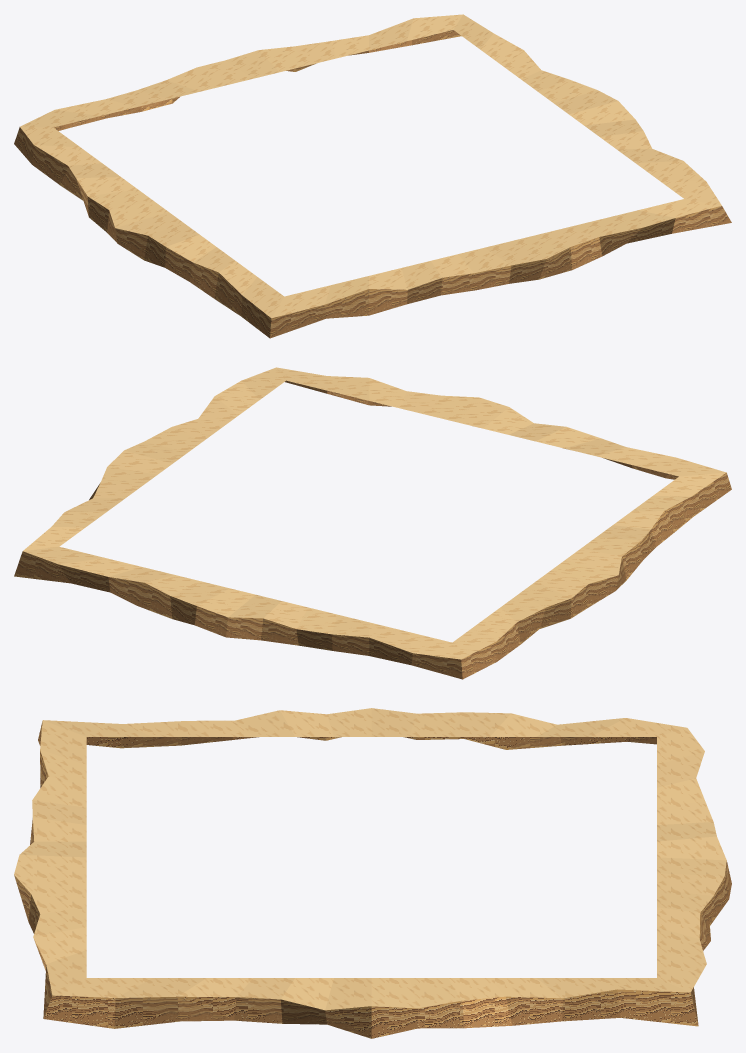
Rendered from entorno_16.glb.
The picture shows the model from 3 angles, top to bottom: view 1: azimuth 30°, elevation 25°; view 2: azimuth 150°, elevation 25°; view 3: azimuth 270°, elevation 25°; orthographic projection. The views are drawn at different scales.
Visible parts, largest first — view 1: deserto_entorno_16; view 2: deserto_entorno_16; view 3: deserto_entorno_16.
Part boxes in pixels (<box>): deserto_entorno_16: <box>14,14,731,338</box>; deserto_entorno_16: <box>14,367,731,679</box>; deserto_entorno_16: <box>14,708,731,1038</box>.
Size of the model in its own units: 20.59 by 1.07 by 20.39.
2 materials, 2 textured.
